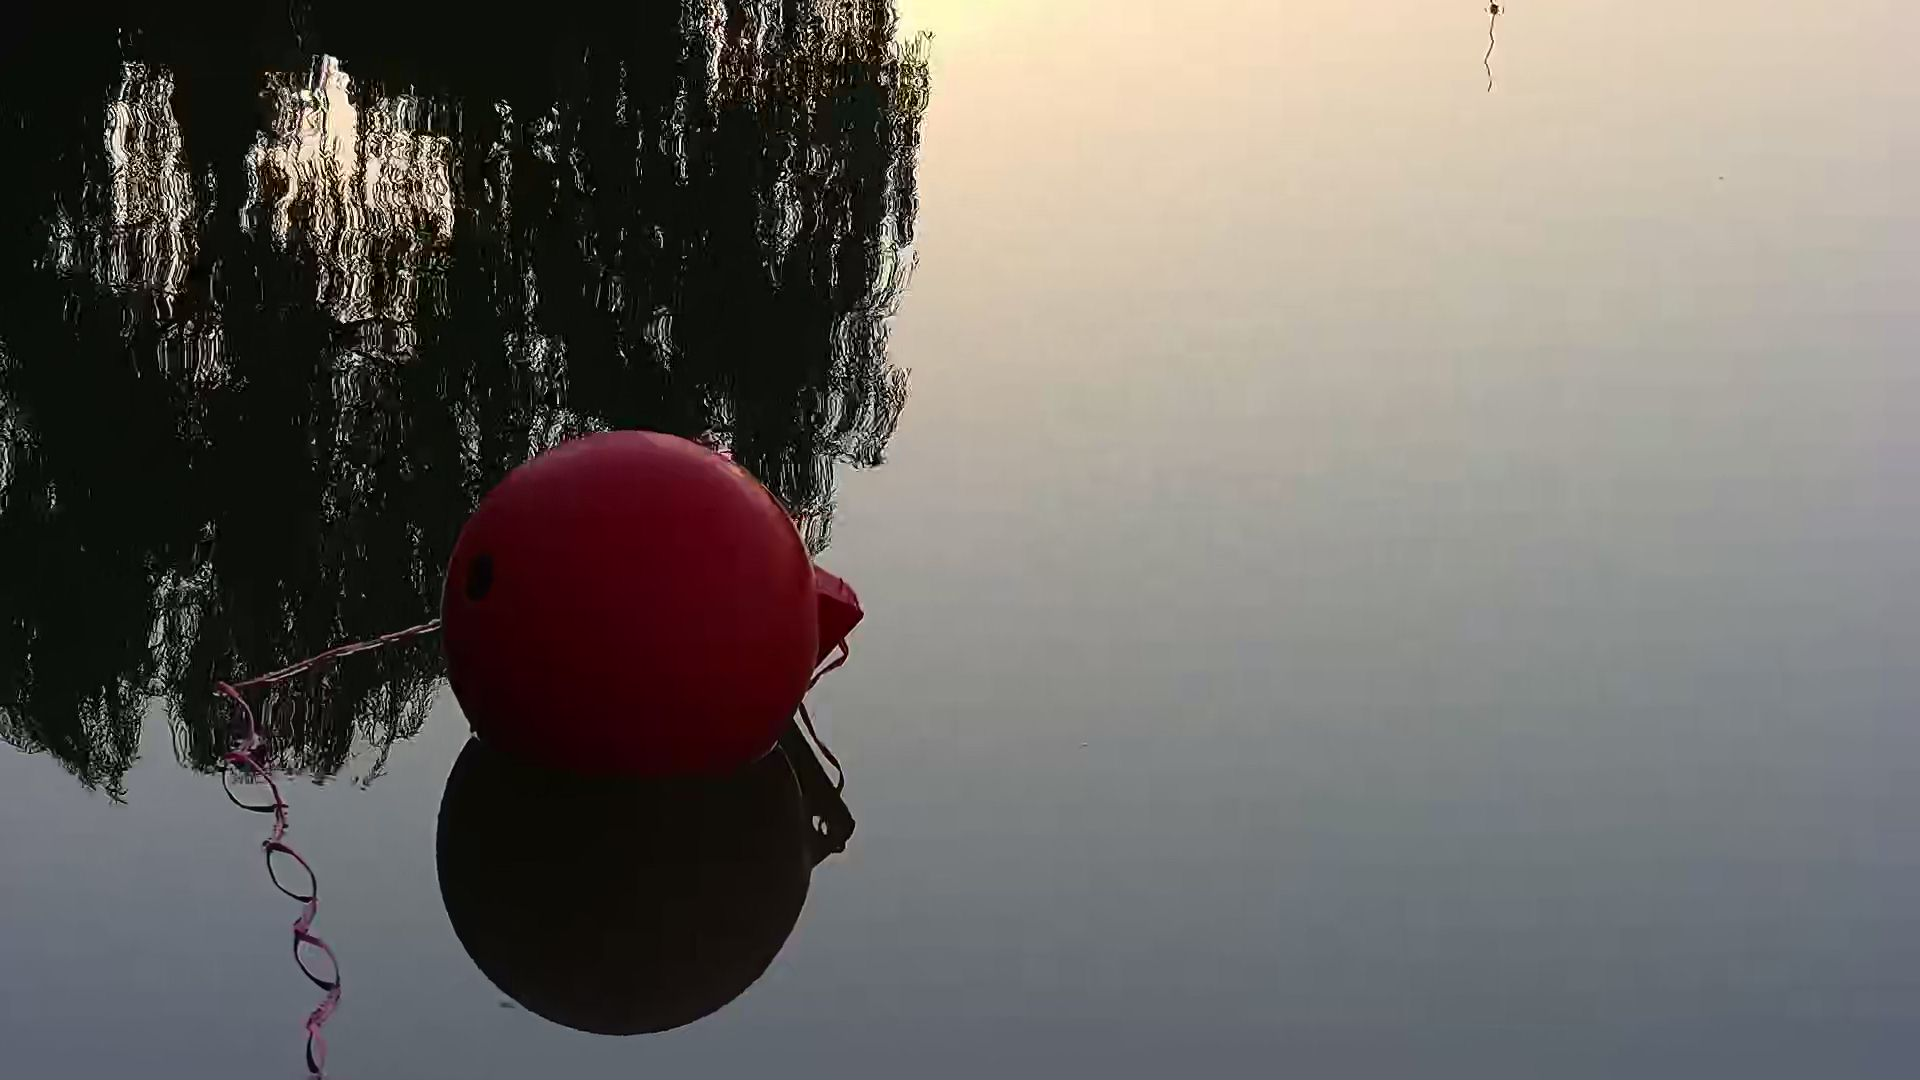ball: (439, 418, 866, 785)
